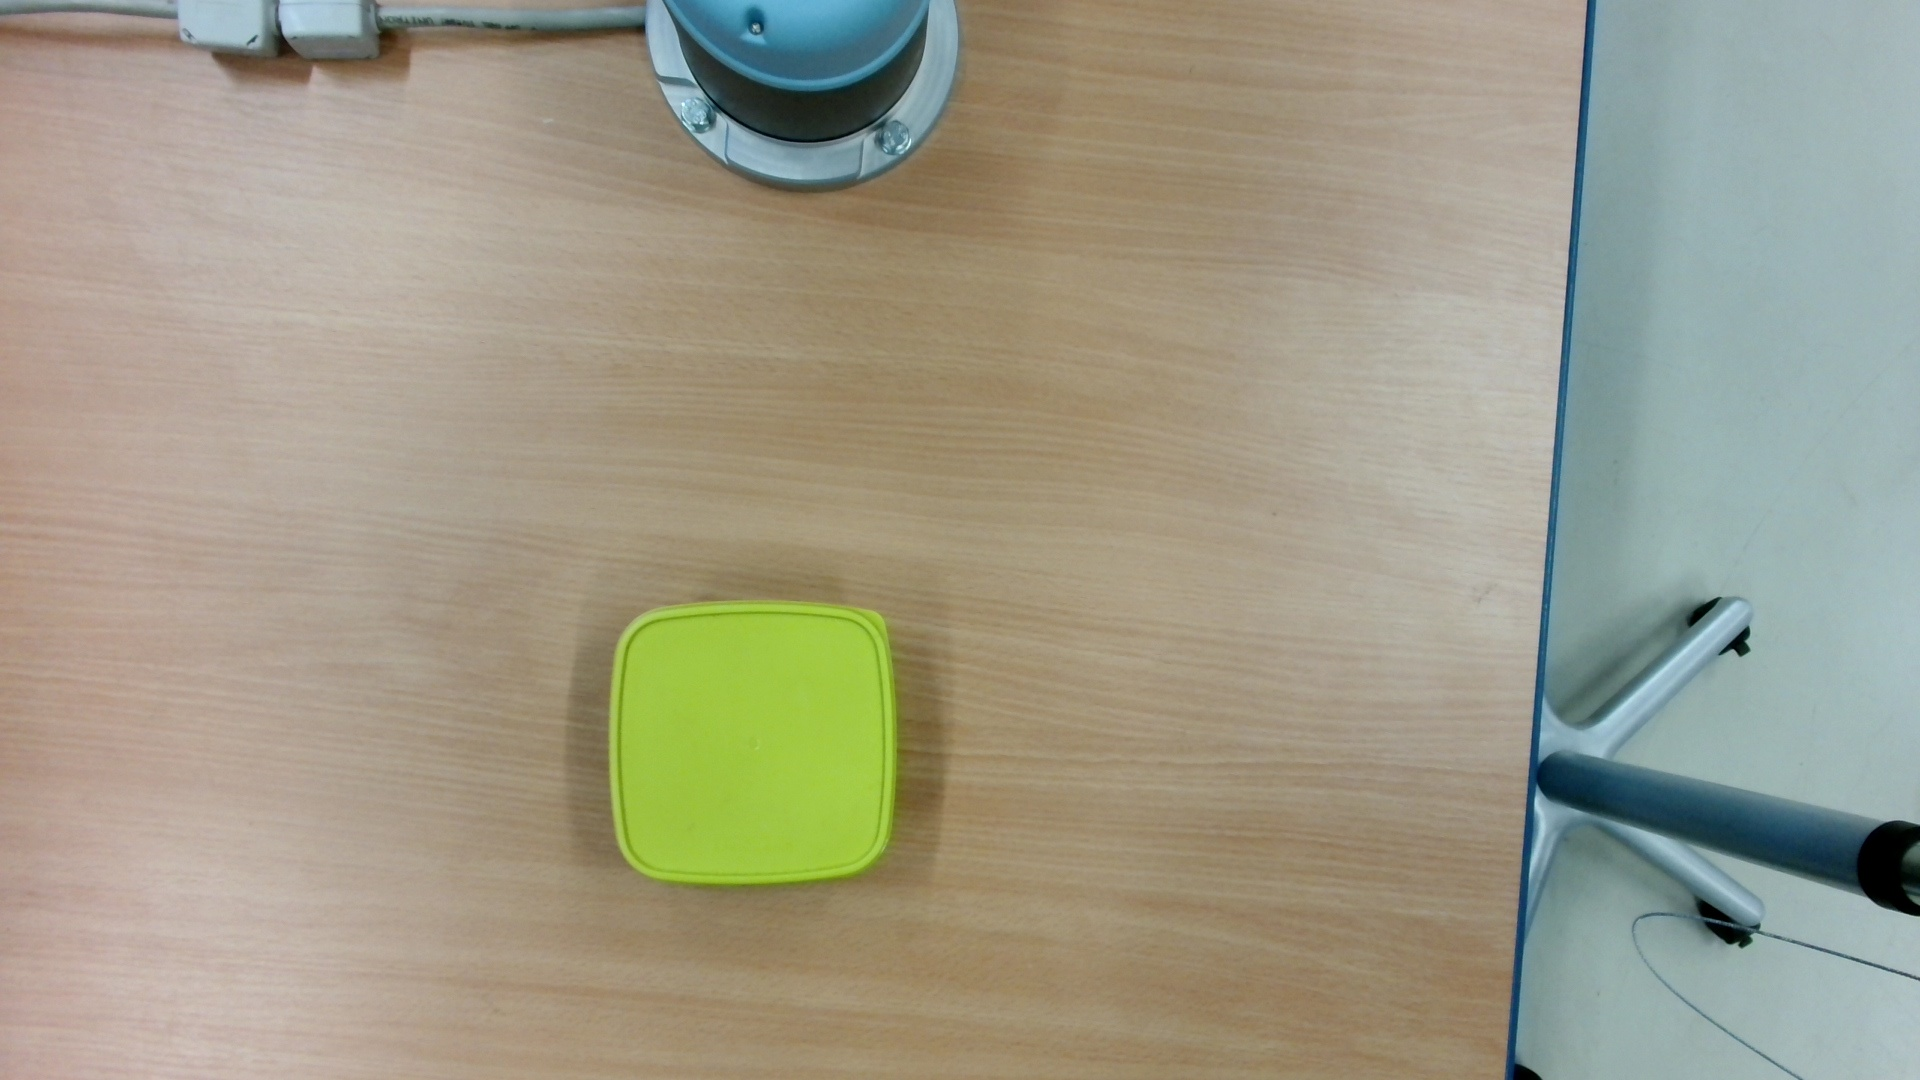Box: (600, 595, 905, 893)
